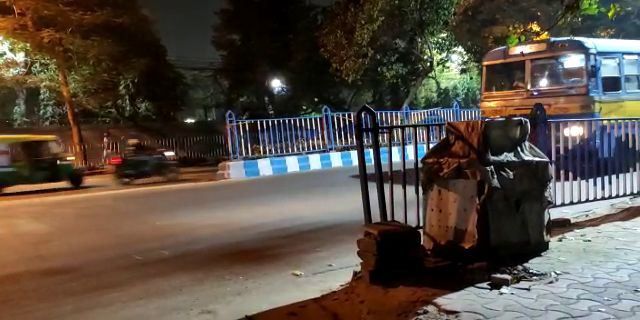Autorickshaw: (1, 132, 85, 192)
Bus: (473, 41, 639, 175)
Motorbike: (107, 136, 187, 185)
